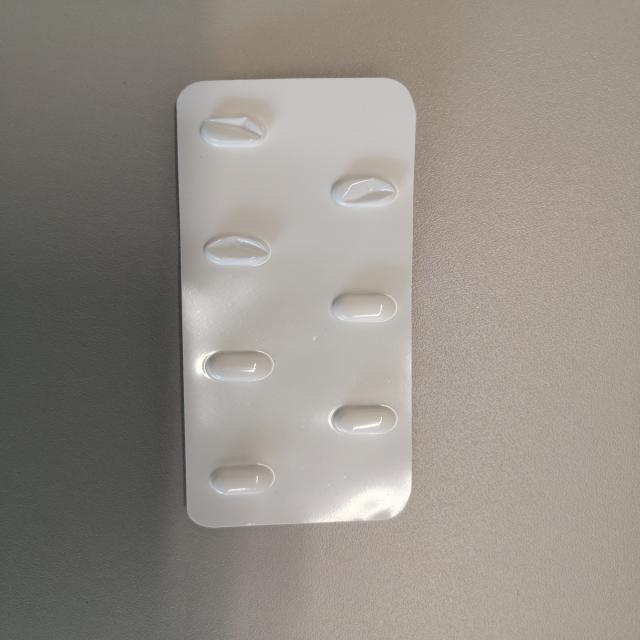Empty: (198, 113, 271, 152), (325, 173, 401, 209), (201, 232, 272, 269)
Pill: (199, 346, 278, 384), (329, 286, 397, 326), (207, 460, 280, 496), (325, 401, 400, 436)
